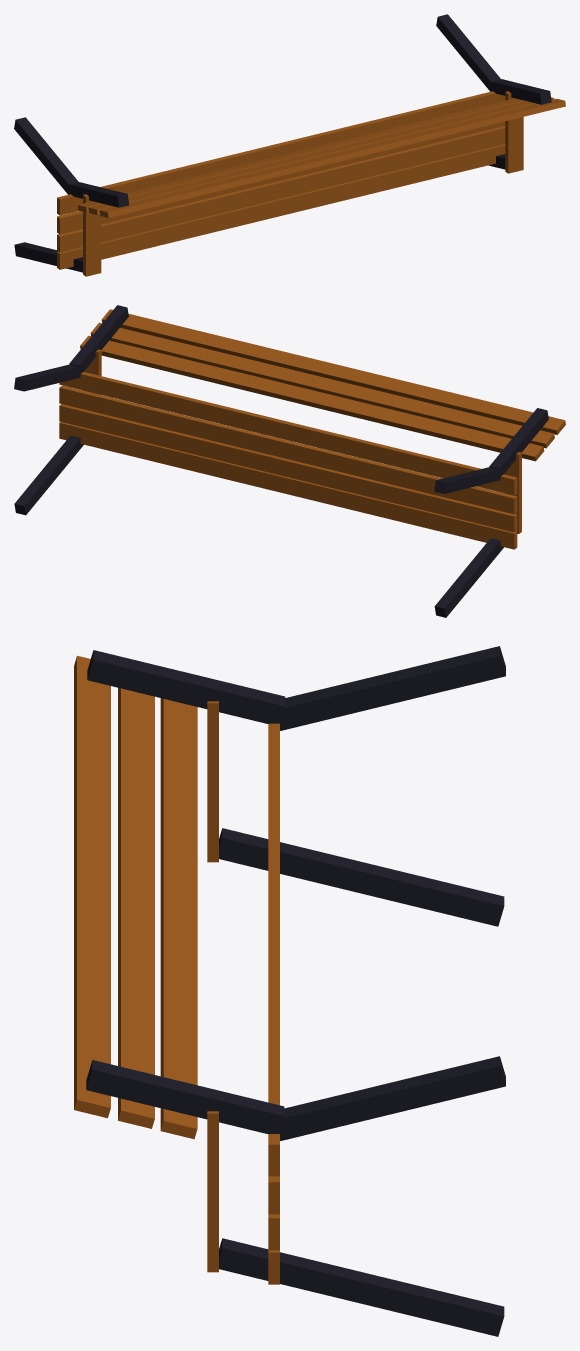
Rendered from leber-lgdp-14.glb.
The picture shows the model from 3 angles, top to bottom: view 1: azimuth 30°, elevation 25°; view 2: azimuth 150°, elevation 25°; view 3: azimuth 270°, elevation 25°; orthographic projection. The views are drawn at different scales.
Parts seen in each view (by area): view 1: Cube.052, Cube.053, Cube.050, Cube.056, Cube.051, Cube.057, Cube.065, Cube.064, Cube.061, Cube.059, Cube.058, Cube.054 (+2 smaller); view 2: Cube.052, Cube.051, Cube.050, Cube.053, Cube.065, Cube.056, Cube.057, Cube.063, Cube.060, Cube.062, Cube.054, Cube.061 (+2 smaller); view 3: Cube.056, Cube.065, Cube.057, Cube.060, Cube.063, Cube.064, Cube.061, Cube.062, Cube.054, Cube.050, Cube.059, Cube.058.
Part boxes in pixels (x1,y1,x2,y2): Cube.052: (57, 126, 505, 252); Cube.053: (57, 144, 505, 269); Cube.050: (57, 91, 505, 215); Cube.056: (99, 98, 565, 217); Cube.051: (57, 121, 505, 234); Cube.057: (88, 97, 554, 215); Cube.065: (77, 98, 524, 212); Cube.064: (436, 14, 500, 91); Cube.061: (14, 117, 78, 194); Cube.059: (83, 194, 101, 276); Cube.058: (505, 91, 523, 173); Cube.054: (69, 182, 129, 207); Cube.052: (59, 404, 517, 532); Cube.051: (59, 385, 517, 514); Cube.050: (59, 372, 517, 495); Cube.053: (59, 422, 517, 549); Cube.065: (80, 335, 544, 461); Cube.056: (101, 309, 565, 434); Cube.057: (90, 322, 554, 448); Cube.063: (14, 435, 83, 515); Cube.060: (434, 538, 503, 617); Cube.062: (69, 305, 128, 373); Cube.054: (489, 408, 548, 475); Cube.061: (434, 467, 501, 493); Cube.056: (74, 655, 110, 1118); Cube.065: (160, 698, 197, 1139); Cube.057: (118, 687, 154, 1128); Cube.060: (219, 828, 504, 926); Cube.063: (219, 1238, 504, 1336); Cube.064: (275, 1056, 505, 1140); Cube.061: (275, 646, 505, 730); Cube.062: (86, 1060, 284, 1133); Cube.054: (87, 650, 285, 723); Cube.050: (268, 723, 279, 1176); Cube.059: (207, 701, 218, 862); Cube.058: (207, 1111, 218, 1272).
Size of the model in its own units: 1.8 by 0.512 by 0.7396.
